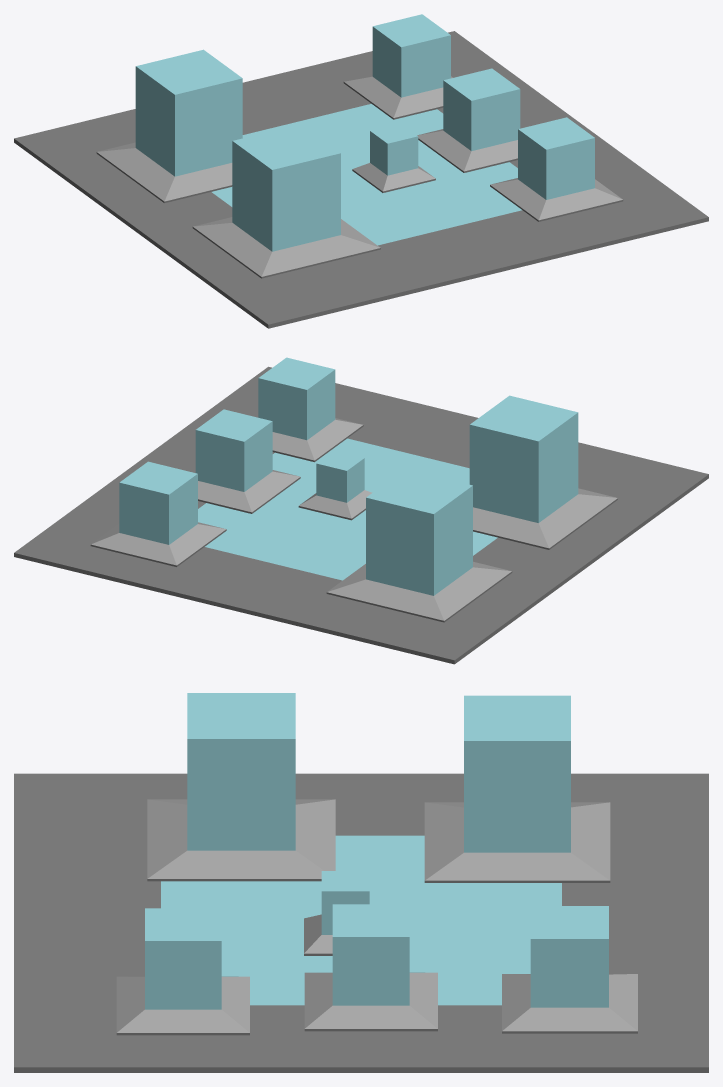
Rendered from PowerCubes.fbx.
The picture shows the model from 3 angles, top to bottom: view 1: azimuth 30°, elevation 25°; view 2: azimuth 150°, elevation 25°; view 3: azimuth 270°, elevation 25°; orthographic projection. The views are drawn at different scales.
Visible parts, largest first — view 1: pCube18; view 2: pCube18; view 3: pCube18.
Boxes of the visible parts, x1=… form: pCube18: x1=14, y1=14, x2=708, y2=328; pCube18: x1=14, y1=357, x2=708, y2=664; pCube18: x1=14, y1=693, x2=708, y2=1072.
Size of the model in its own units: 41.59 by 8.66 by 41.59.
